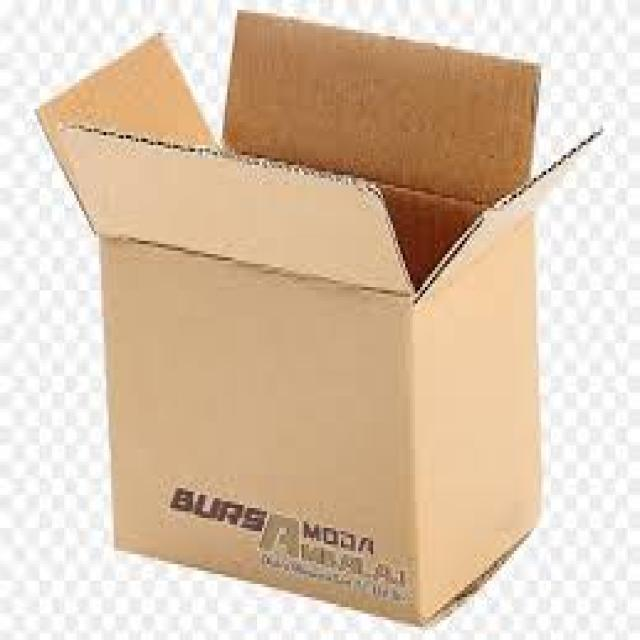Cardboard: (34, 16, 600, 626)
